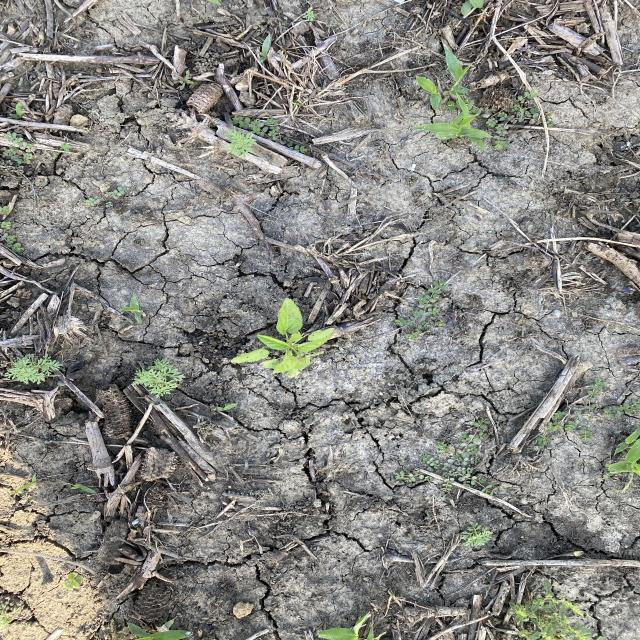PricklySida: (227, 293, 338, 381)
Ragweed: (132, 356, 188, 400), (2, 353, 64, 386), (459, 521, 496, 550), (226, 126, 256, 158)
SpottedSpurge: (393, 410, 511, 504), (522, 372, 639, 454), (448, 86, 552, 151), (389, 277, 453, 344), (1, 130, 74, 167), (249, 116, 309, 154), (79, 184, 129, 212), (1, 204, 26, 254)
